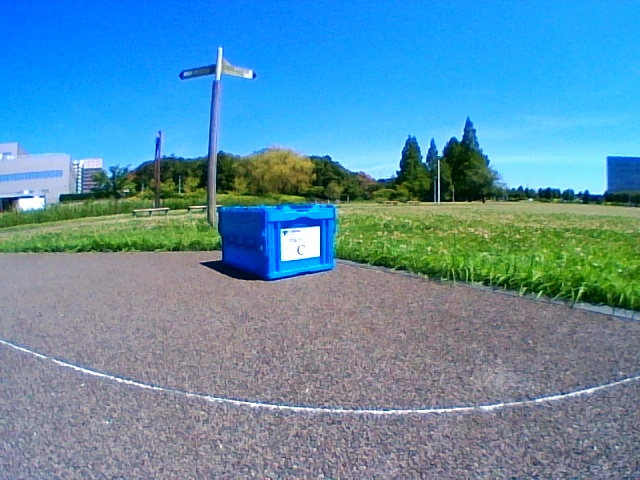blue_box: (217, 203, 335, 279)
tag_c: (282, 229, 317, 258)
